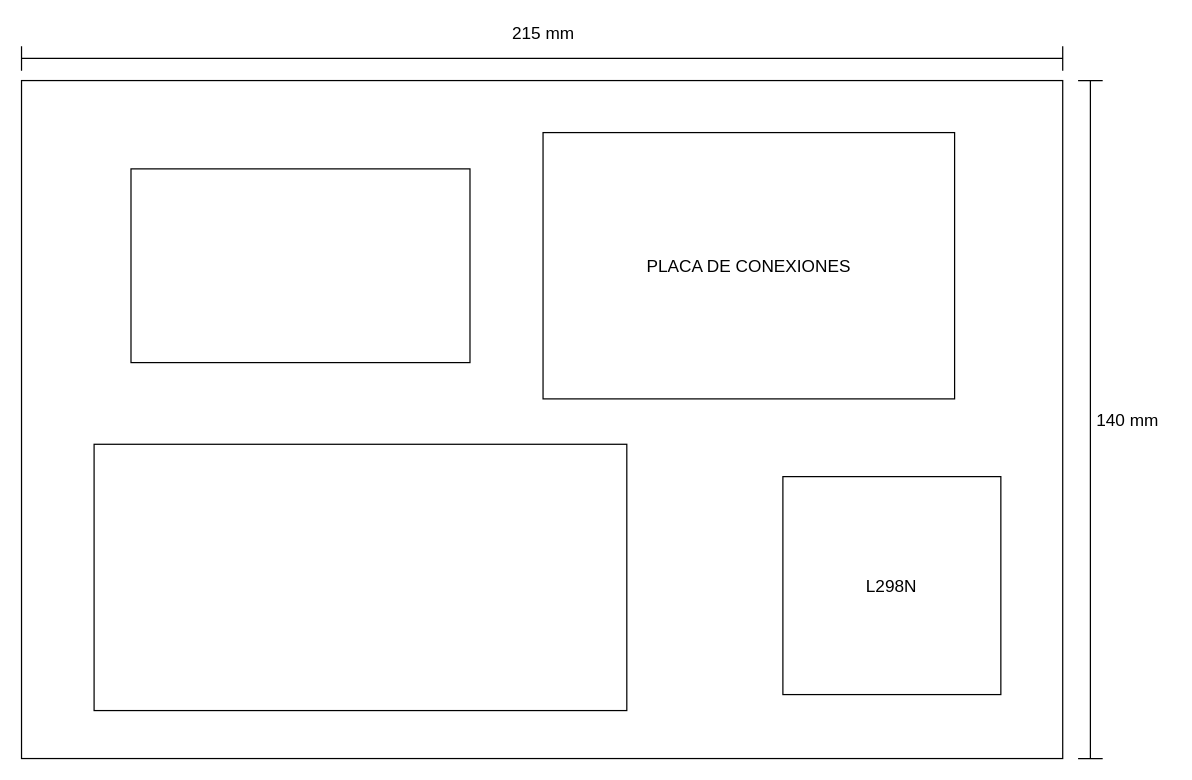
Image size: 1192x780. Some labels were removed from this diagram. The box of each missing label's shape, as (x1, y1, x2, y2) in pixels:
ARDUINO MEGA: (93, 443, 627, 711)
FUENTE ALIMENTACIÓN: (130, 168, 470, 363)
